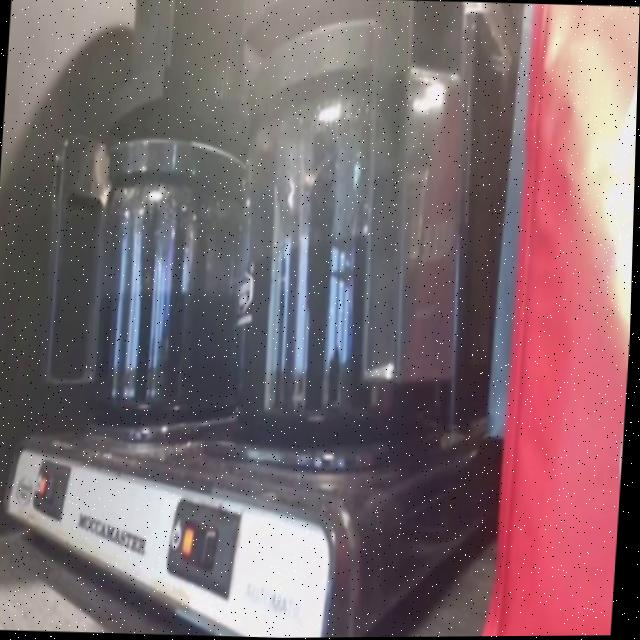coffee: (213, 11, 482, 469), (67, 95, 260, 439)
